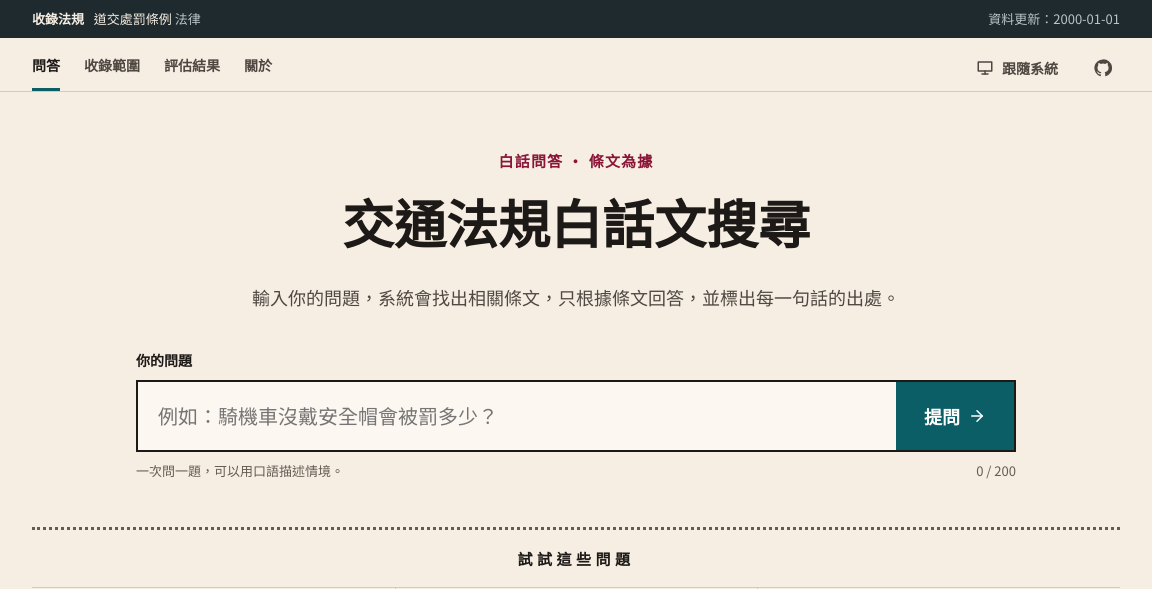
Test: 檢索過程 (desktop) › stays expanded and shows progress while streaming, with a skeleton before results
Type "紅燈右轉會被罰多少錢？" into the text box labelled "你的問題" at (517, 416), box [138,382,896,450]
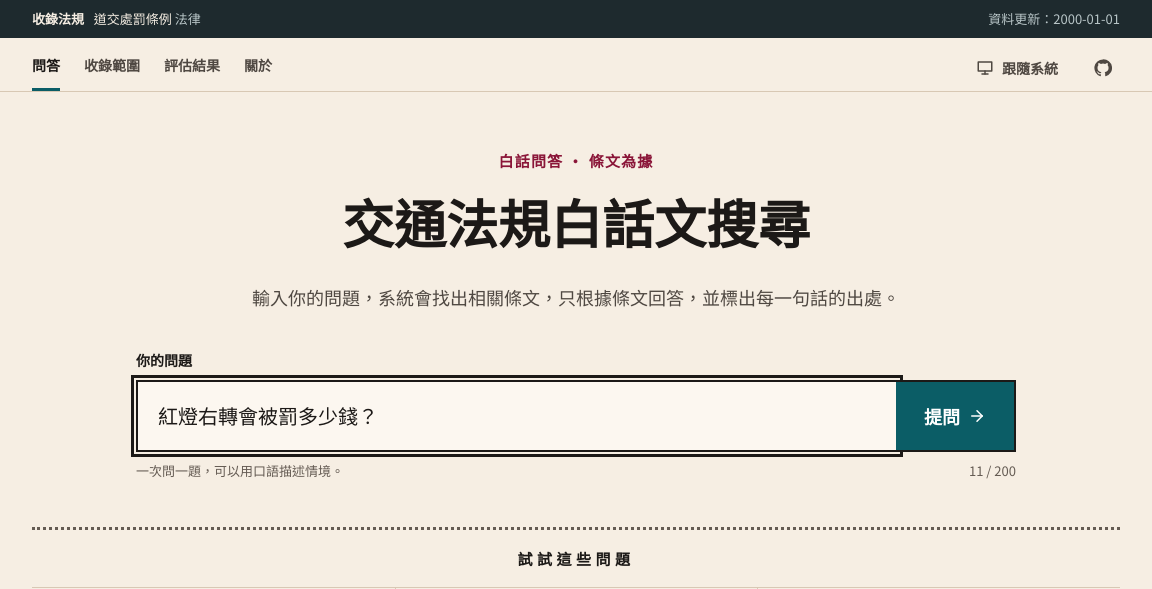
Click the button "提問" at (955, 416), box [896,382,1014,450]
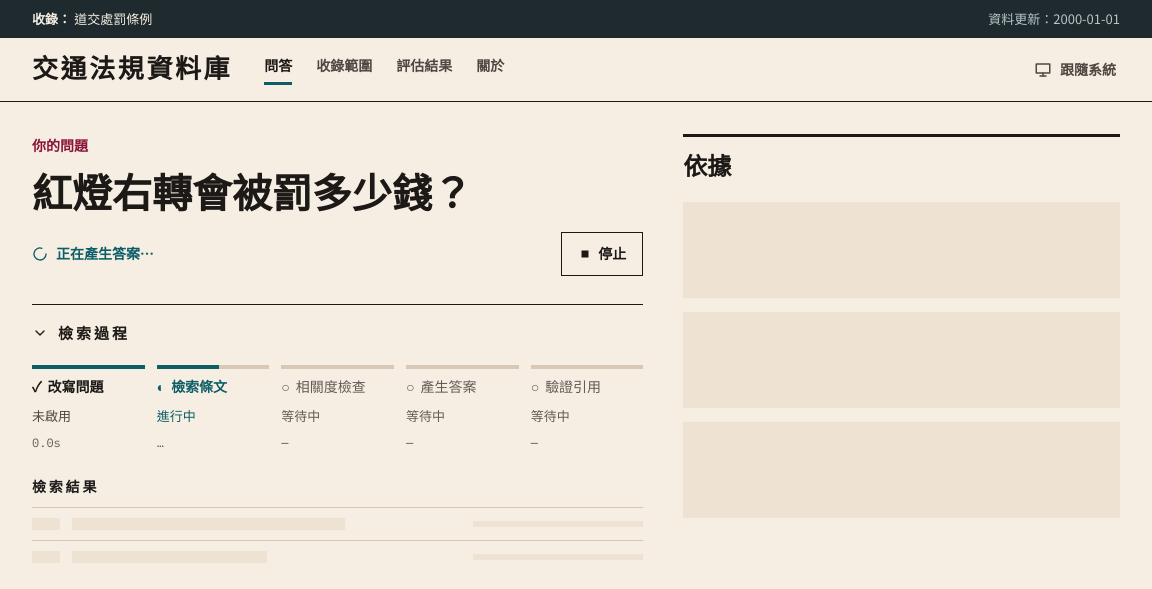
Result: the list item "◐ 檢索條文 進行中 …" is shown at [157,365,269,453]
Result: the list item "○ 驗證引用 等待中 —" is shown at [531,365,643,453]
